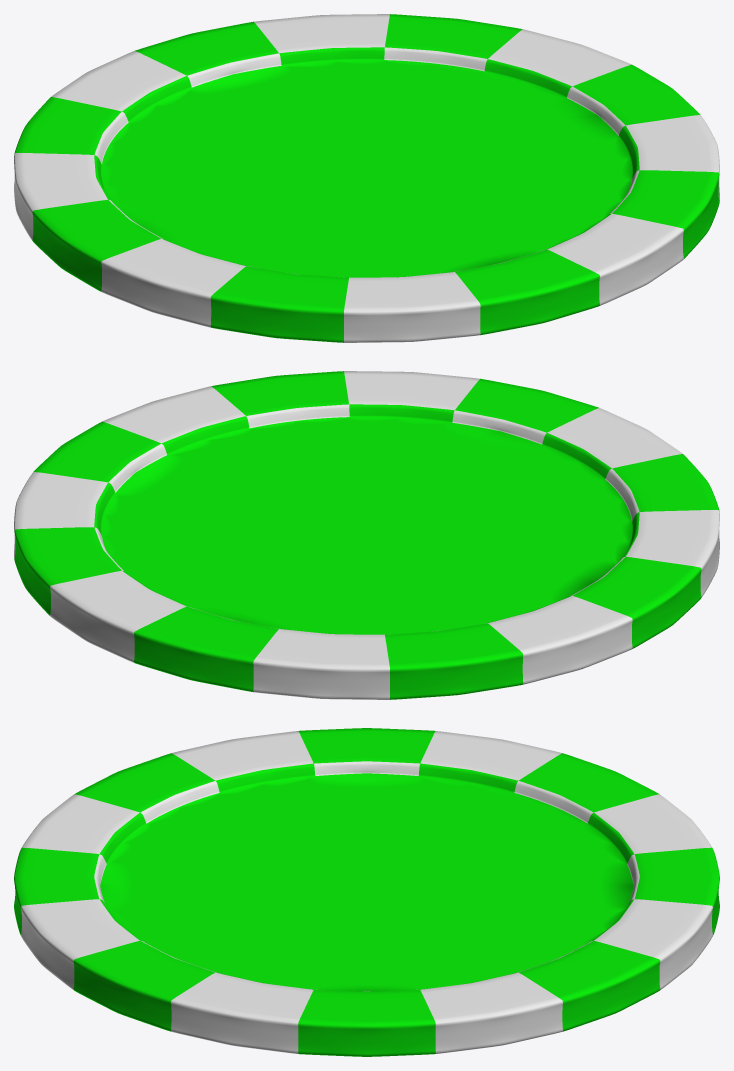
Rendered from Chip_Green.fbx.
3 views of the same model, one above another, from view 1: azimuth 30°, elevation 25°; view 2: azimuth 150°, elevation 25°; view 3: azimuth 270°, elevation 25° (orthographic).
Visible parts, largest first — view 1: Chip_Green; view 2: Chip_Green; view 3: Chip_Green.
Boxes of the visible parts, bbox=[...] form: Chip_Green: bbox=[14, 14, 719, 342]; Chip_Green: bbox=[14, 371, 719, 699]; Chip_Green: bbox=[14, 728, 719, 1056].
Size of the model in its own units: 199 by 10.01 by 199.
